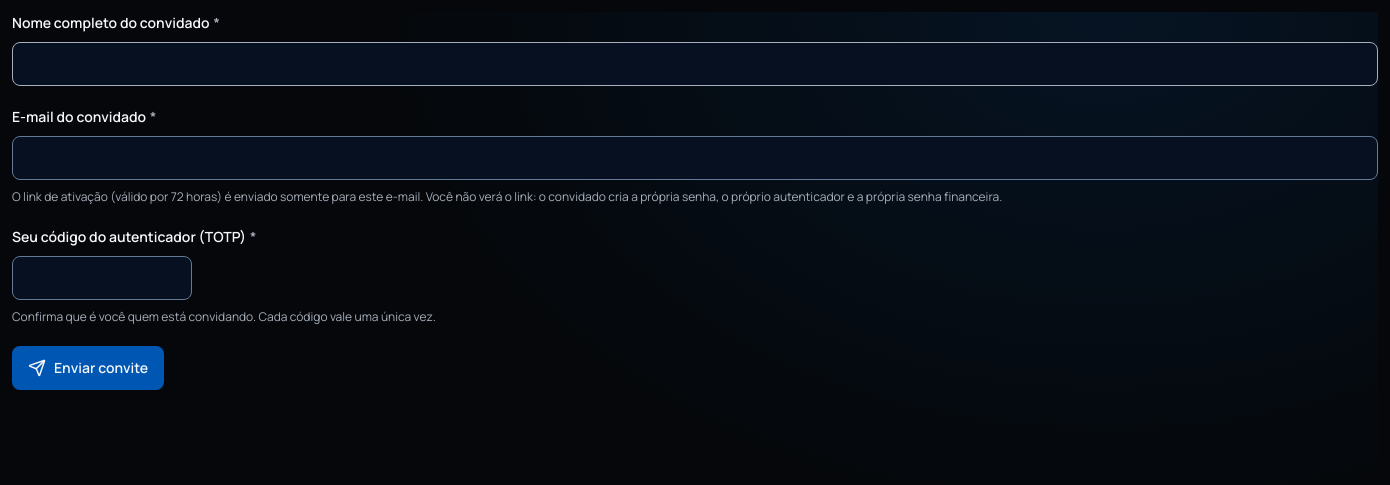
Test: formulário de convite › valida os campos antes de enviar (nada sai sem nome, e-mail e TOTP)
Click the button "Enviar convite".
click(88, 368)  # box x1=12 y1=346 x2=164 y2=390
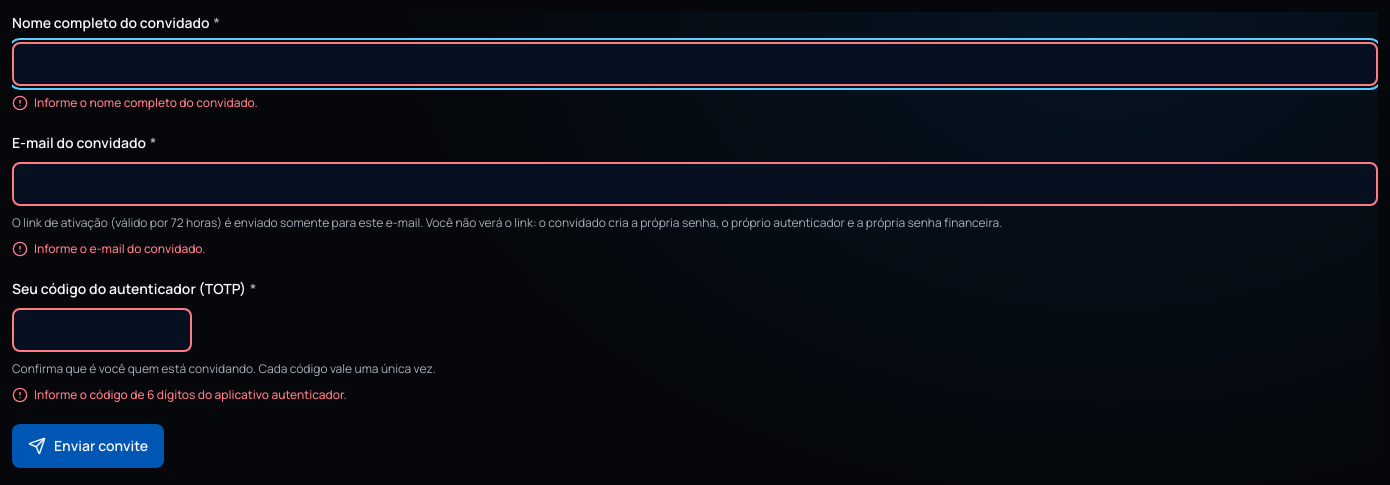
Now the text "Informe o nome completo do convidado." is shown, box x1=34 y1=94 x2=258 y2=112
Now the text "Informe o e-mail do convidado." is shown, box x1=34 y1=240 x2=206 y2=258
Now the text "Informe o código de 6 dígitos do aplicativo autenticador." is shown, box x1=34 y1=386 x2=347 y2=404
